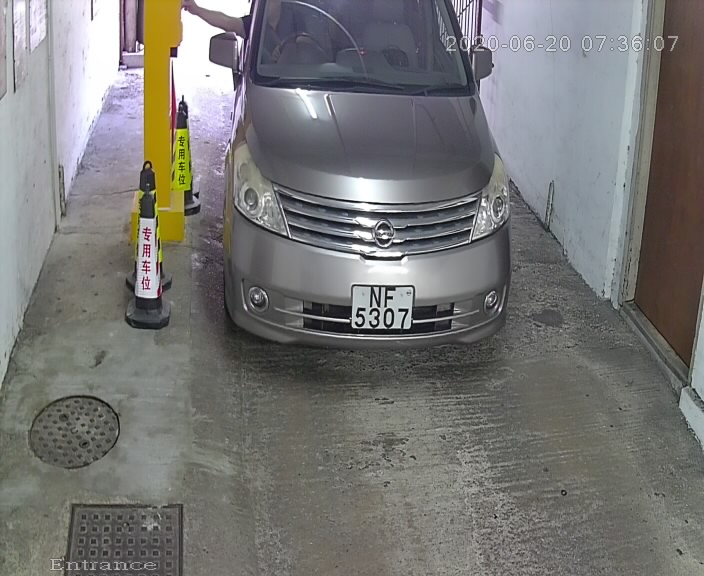privatecar: (193, 3, 537, 393)
